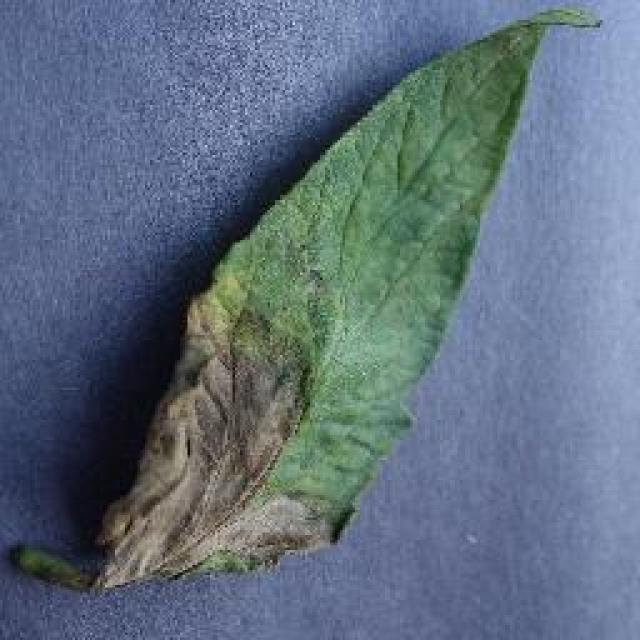Tomato___Late_blight: (7, 5, 605, 600)
